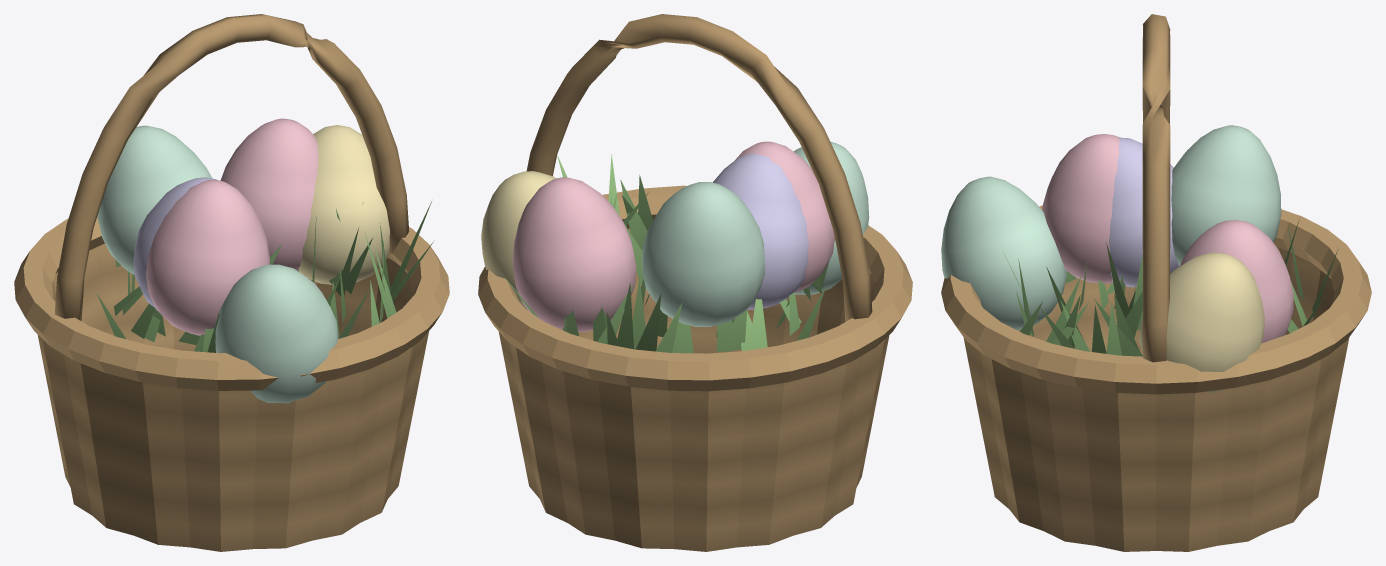
File: easter-basket.glb
3 renders of one model, left to right at view 1: azimuth 30°, elevation 25°; view 2: azimuth 150°, elevation 25°; view 3: azimuth 270°, elevation 25°, orthographic.
Visible parts, largest first — view 1: Basket, Basket_Rim, Basket_Handle, Egg_0, Egg_1, Egg_2, Egg_4, Egg_5, Basket_Grass, Egg_3; view 2: Basket, Basket_Rim, Basket_Handle, Egg_4, Egg_5, Basket_Grass, Egg_3, Egg_0, Egg_2, Egg_1; view 3: Basket, Basket_Rim, Egg_1, Egg_5, Egg_2, Basket_Handle, Egg_0, Basket_Grass, Egg_4, Egg_3.
Boxes of the visible parts, x1=… form: Basket: x1=37, y1=243, x2=428, y2=551; Basket_Rim: x1=14, y1=216, x2=449, y2=390; Basket_Handle: x1=54, y1=14, x2=409, y2=321; Egg_0: x1=146, y1=179, x2=269, y2=335; Egg_1: x1=215, y1=264, x2=338, y2=403; Egg_2: x1=298, y1=125, x2=389, y2=284; Egg_4: x1=220, y1=118, x2=318, y2=271; Egg_5: x1=97, y1=125, x2=212, y2=274; Basket_Grass: x1=59, y1=201, x2=434, y2=352; Egg_3: x1=133, y1=177, x2=216, y2=311; Basket: x1=498, y1=228, x2=889, y2=551; Basket_Rim: x1=478, y1=185, x2=912, y2=391; Basket_Handle: x1=526, y1=14, x2=872, y2=321; Egg_4: x1=512, y1=177, x2=636, y2=331; Egg_5: x1=642, y1=182, x2=764, y2=326; Basket_Grass: x1=501, y1=154, x2=844, y2=353; Egg_3: x1=713, y1=153, x2=808, y2=309; Egg_0: x1=735, y1=141, x2=834, y2=292; Egg_2: x1=481, y1=171, x2=556, y2=310; Egg_1: x1=794, y1=141, x2=869, y2=294; Basket: x1=963, y1=247, x2=1349, y2=551; Basket_Rim: x1=941, y1=205, x2=1371, y2=394; Egg_1: x1=941, y1=176, x2=1066, y2=330; Egg_5: x1=1171, y1=125, x2=1281, y2=266; Egg_2: x1=1139, y1=252, x2=1264, y2=393; Basket_Handle: x1=1142, y1=14, x2=1170, y2=362; Egg_0: x1=1042, y1=134, x2=1119, y2=283; Basket_Grass: x1=1004, y1=219, x2=1338, y2=356; Egg_4: x1=1180, y1=220, x2=1293, y2=342; Egg_3: x1=1109, y1=137, x2=1179, y2=287.
Size of the model in its own units: 0.092 by 0.1079 by 0.092.
